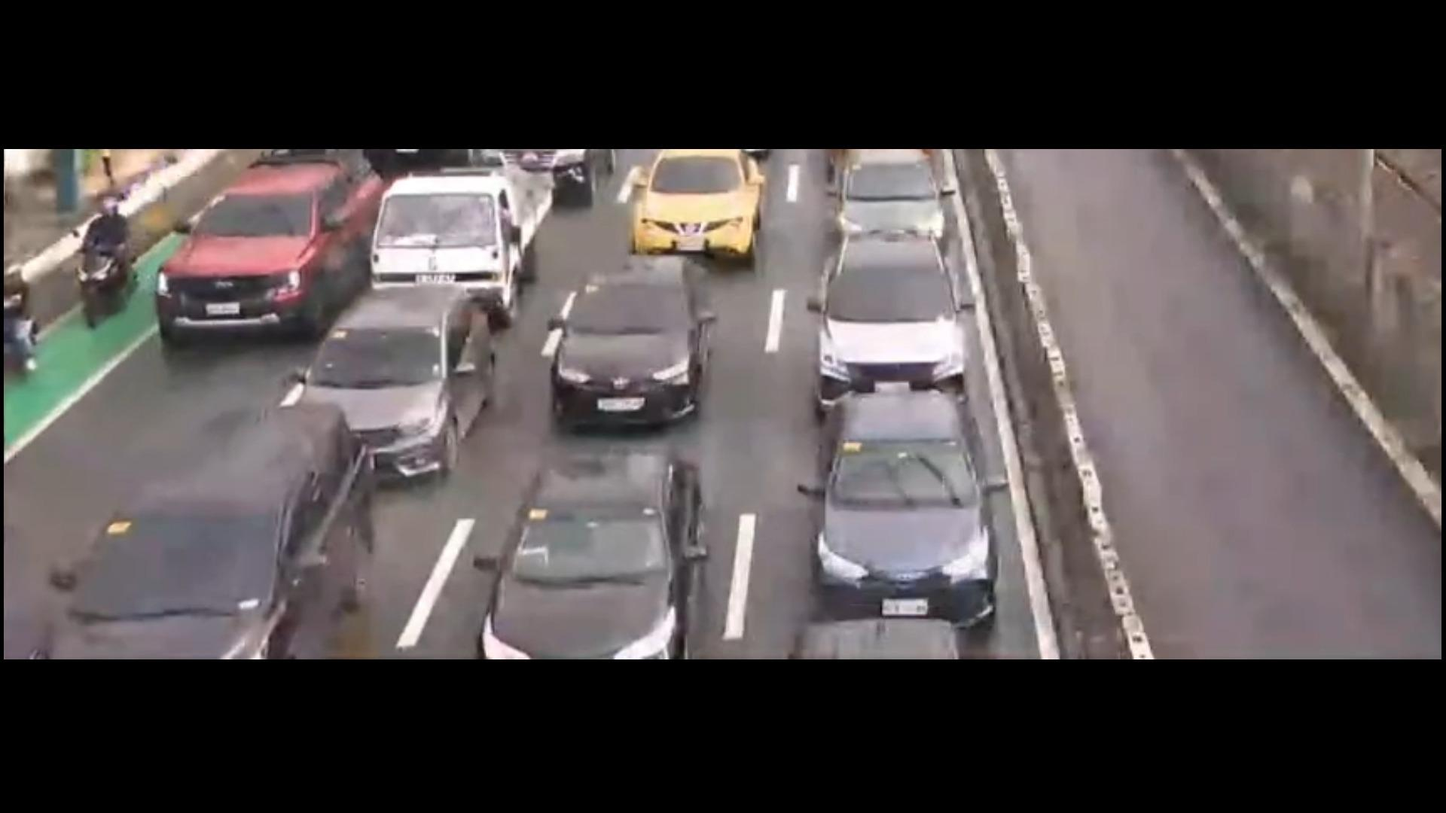Motorcycle: (75, 198, 132, 326)
SUV: (36, 403, 382, 659), (158, 156, 388, 346), (810, 235, 977, 414), (619, 149, 768, 275)
Sedan: (806, 380, 1009, 638), (467, 450, 710, 657), (303, 286, 497, 478), (540, 254, 708, 427)
Truck: (365, 154, 559, 327)
